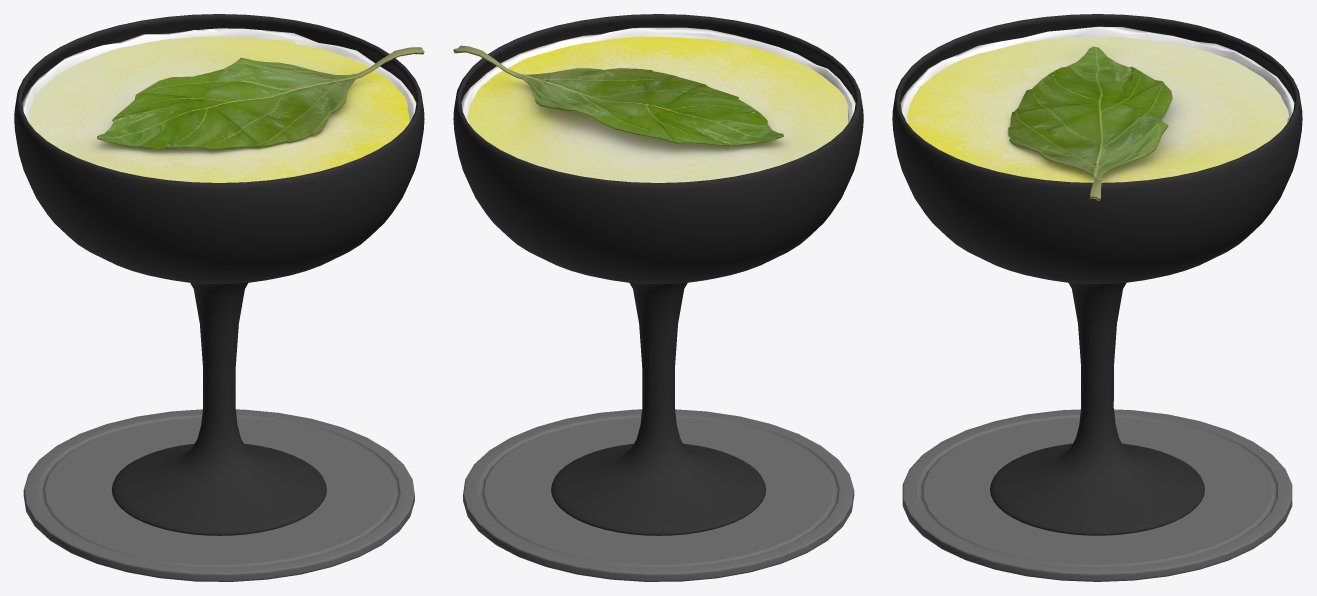
The model's file is albahaca-draco.glb.
The picture shows the model from 3 angles, left to right: view 1: azimuth 30°, elevation 25°; view 2: azimuth 150°, elevation 25°; view 3: azimuth 270°, elevation 25°; orthographic projection.
Parts seen in each view (by area): view 1: glass, posavasos, liquido, hoja, espuma; view 2: glass, posavasos, liquido, hoja, espuma; view 3: glass, posavasos, liquido, hoja, espuma.
Boxes of the visible parts, box(x1,y1,x2,y2) form: glass: box(14, 14, 424, 535); posavasos: box(23, 409, 414, 581); liquido: box(22, 36, 416, 182); hoja: box(97, 47, 424, 150); espuma: box(22, 28, 416, 123); glass: box(453, 14, 863, 535); posavasos: box(463, 409, 854, 581); liquido: box(467, 36, 855, 182); hoja: box(453, 45, 783, 146); espuma: box(461, 27, 855, 123); glass: box(892, 14, 1302, 535); posavasos: box(902, 409, 1292, 581); liquido: box(901, 36, 1289, 182); hoja: box(1008, 46, 1172, 200); espuma: box(900, 26, 1294, 123).
Bounding box in the file's own units: 0.561 × 0.5689 × 0.5228.
3 materials, 2 textured.
